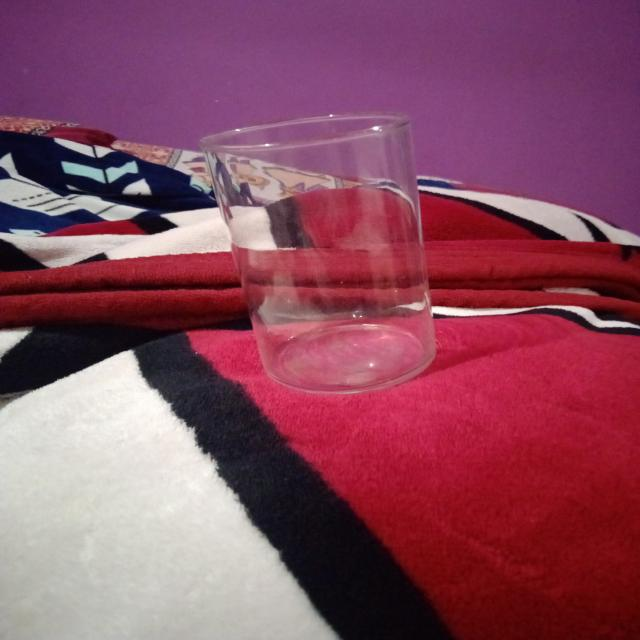Glass: (197, 107, 443, 397)
